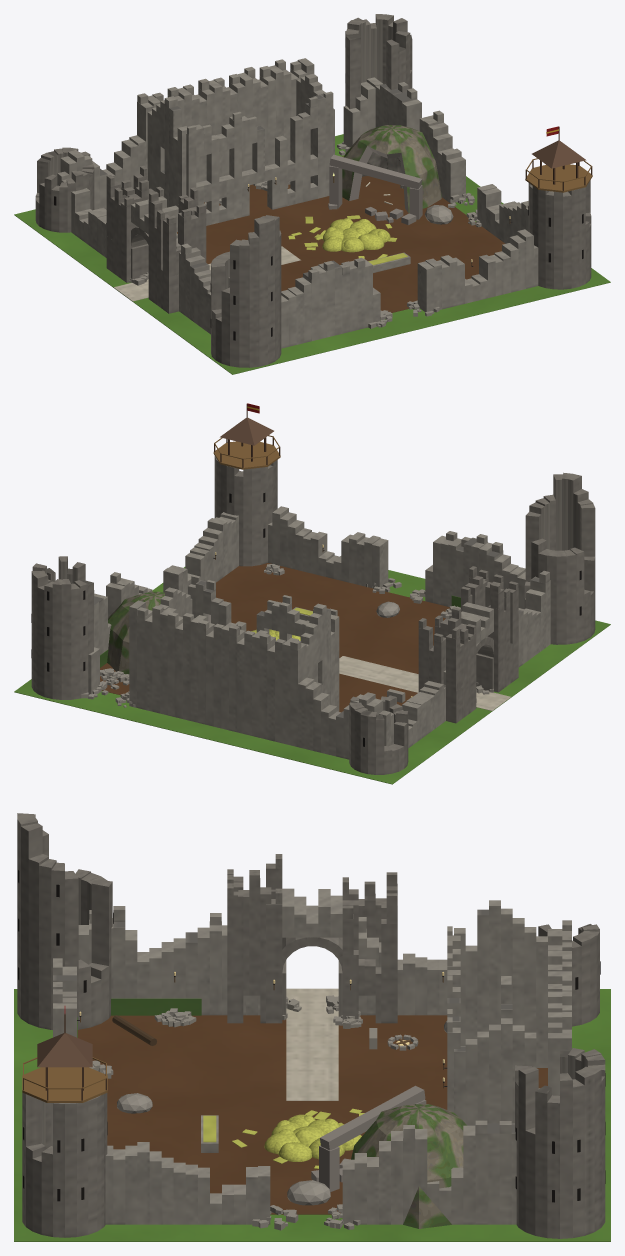
Rendered from draci_farma.glb.
3 views of the same model, one above another, from view 1: azimuth 30°, elevation 25°; view 2: azimuth 150°, elevation 25°; view 3: azimuth 270°, elevation 25° (orthographic). The views are drawn at different scales.
Parts seen in each view (by area): view 1: dum, jeskyne, rozhledna; view 2: dum, rozhledna, jeskyne; view 3: dum, jeskyne, rozhledna.
Part boxes in pixels (<box>): dum: <box>14,14,610,374</box>; jeskyne: <box>328,125,441,224</box>; rozhledna: <box>525,126,592,192</box>; dum: <box>14,456,610,784</box>; rozhledna: <box>213,403,280,469</box>; jeskyne: <box>107,591,210,674</box>; dum: <box>14,813,610,1241</box>; jeskyne: <box>311,1085,466,1228</box>; rozhledna: <box>22,1006,107,1102</box>.
Bounding box in the file's own units: 44.4 × 18.08 × 44.4.
4 materials, 3 textured.
